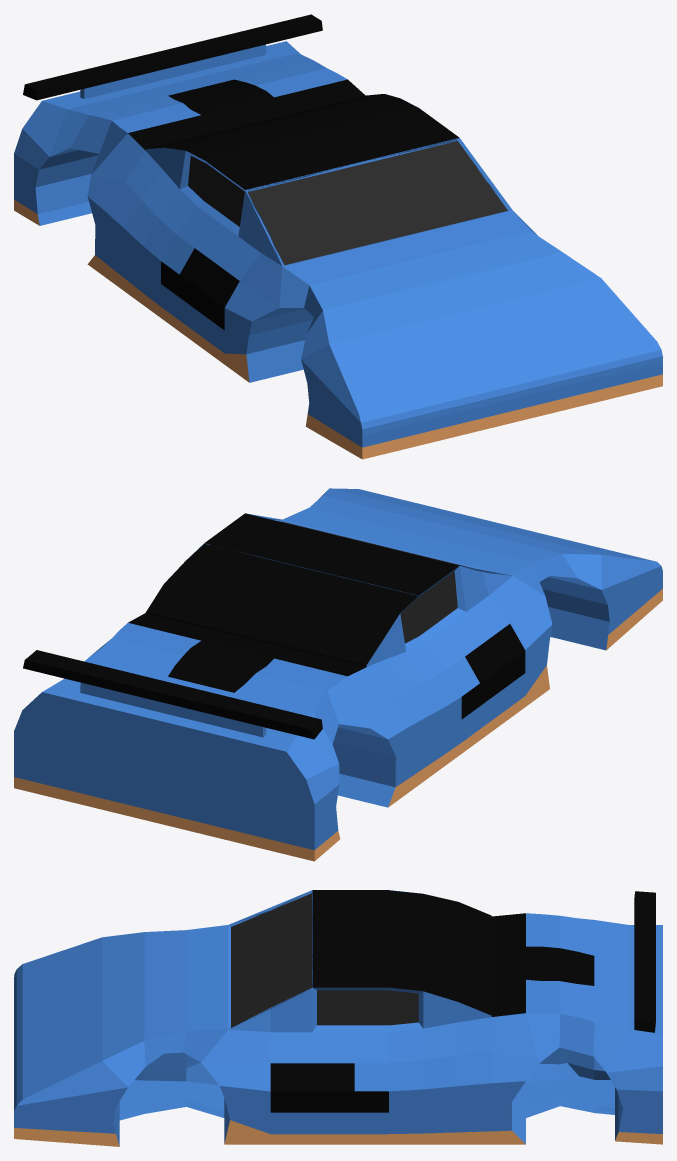
The model's file is car.glb.
3 views of the same model, one above another, from view 1: azimuth 30°, elevation 25°; view 2: azimuth 150°, elevation 25°; view 3: azimuth 270°, elevation 25° (orthographic). The views are drawn at different scales.
Parts seen in each view (by area): view 1: Cube.001; view 2: Cube.001; view 3: Cube.001.
Part boxes in pixels (bbox=[...]): Cube.001: bbox=[14, 14, 662, 459]; Cube.001: bbox=[14, 488, 662, 861]; Cube.001: bbox=[14, 890, 662, 1146].
Bounding box in the file's own units: 2.03 × 0.9712 × 4.07.
